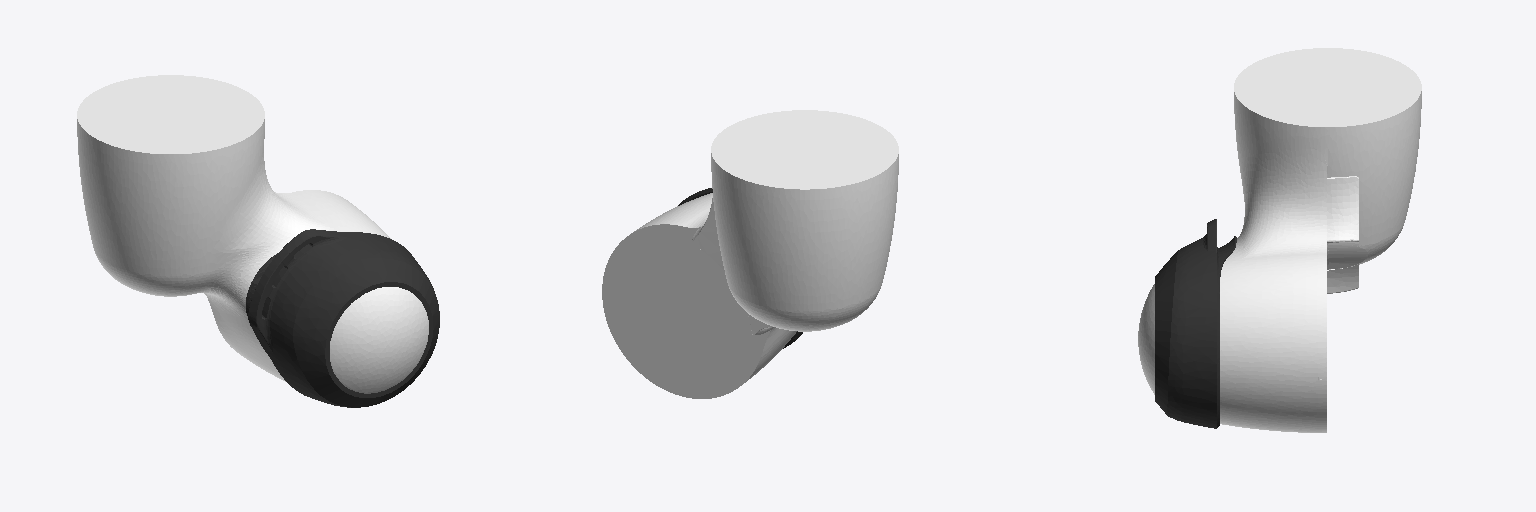
3 renders of one model, left to right at view 1: azimuth 30°, elevation 25°; view 2: azimuth 150°, elevation 25°; view 3: azimuth 270°, elevation 25°, orthographic.
Parts seen in each view (by area): view 1: Part__Feature003_002-mesh, Part__Feature002_003-mesh; view 2: Part__Feature003_002-mesh, Part__Feature001_003-mesh; view 3: Part__Feature003_002-mesh, Part__Feature002_003-mesh, Part__Feature001_003-mesh, Part__Feature_005-mesh.
Part boxes in pixels (x1,y1,x2,y2): Part__Feature003_002-mesh: (77,75,428,393); Part__Feature002_003-mesh: (246,229,439,407); Part__Feature003_002-mesh: (602,110,898,398); Part__Feature001_003-mesh: (692,198,724,270); Part__Feature003_002-mesh: (1138,48,1421,432); Part__Feature002_003-mesh: (1155,219,1236,428); Part__Feature001_003-mesh: (1327,176,1358,246); Part__Feature_005-mesh: (1327,264,1358,293).
Size of the model in its own units: 0.1925 by 0.179 by 0.1661.